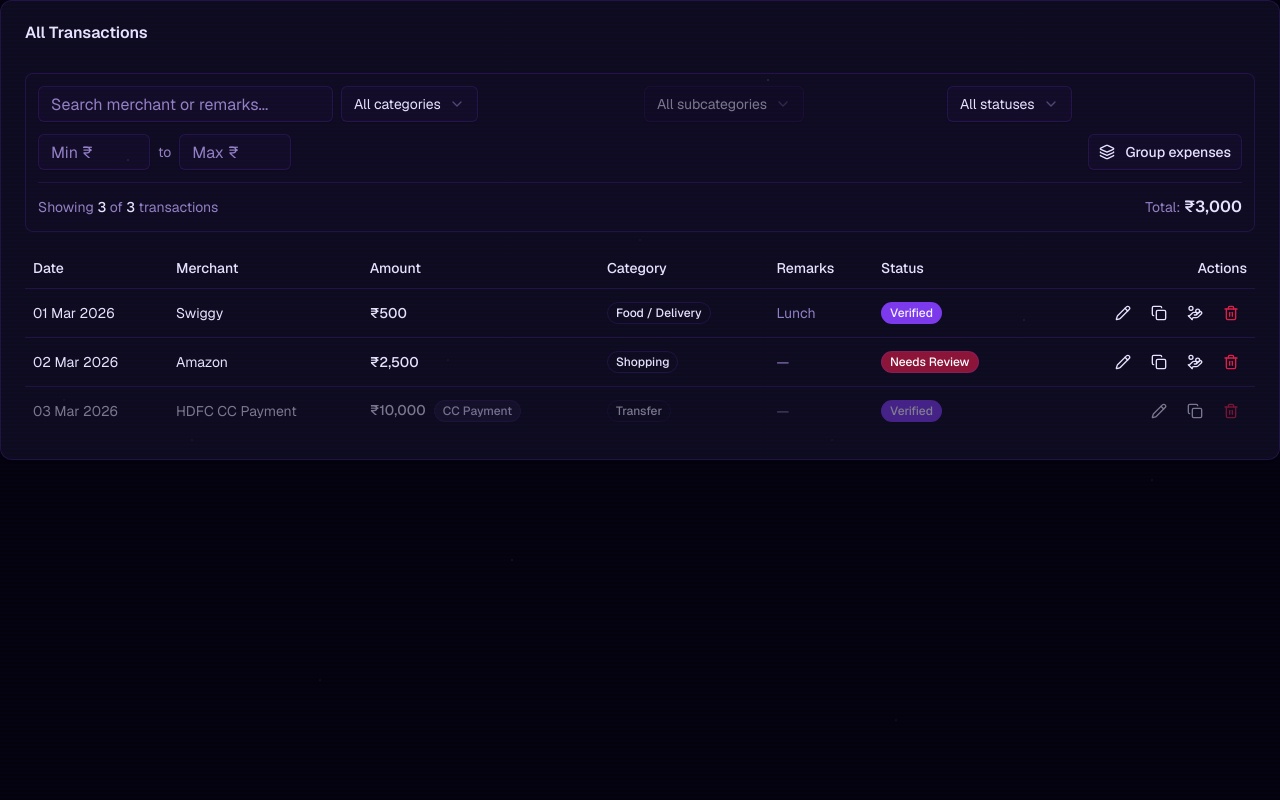
Scenario: TransactionTable filters › filters by merchant search and updates the total
The image size is (1280, 800).
Type "swiggy" into the field named "Search transactions".
click(186, 104); type("swiggy")  # box [38,86,333,122]
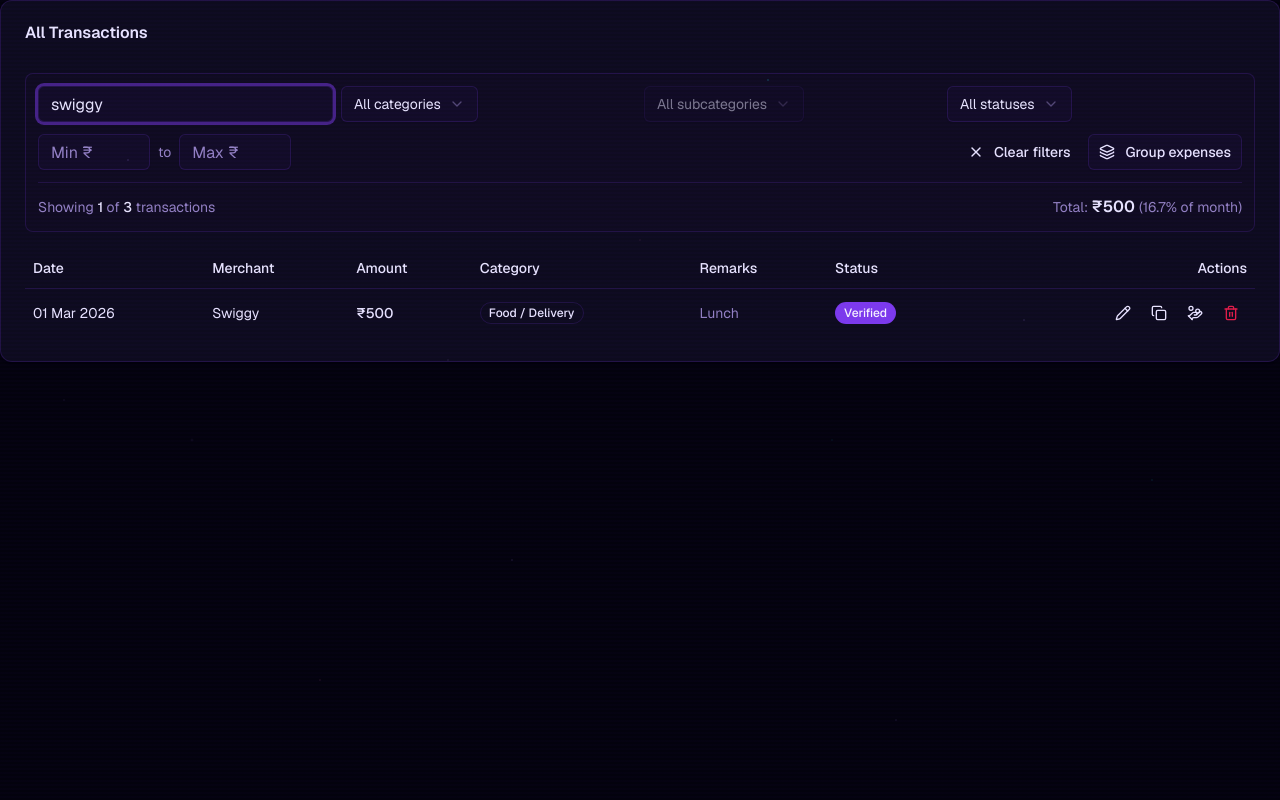
Expected: the text "Swiggy" is shown, [204,288,348,336]
Expected: the text "Amazon" is gone
Expected: the text "Showing 1 of 3 transactions" is shown, [38,197,215,217]
